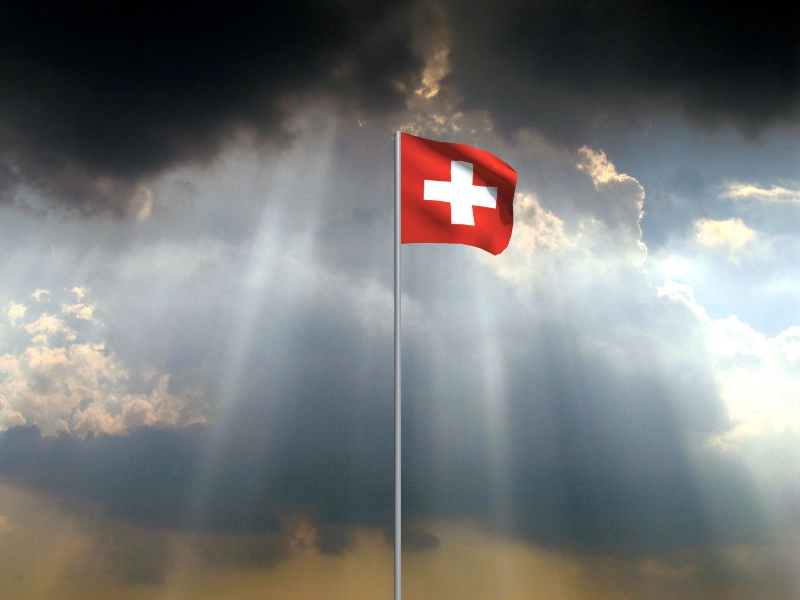ch: (402, 133, 519, 257)
